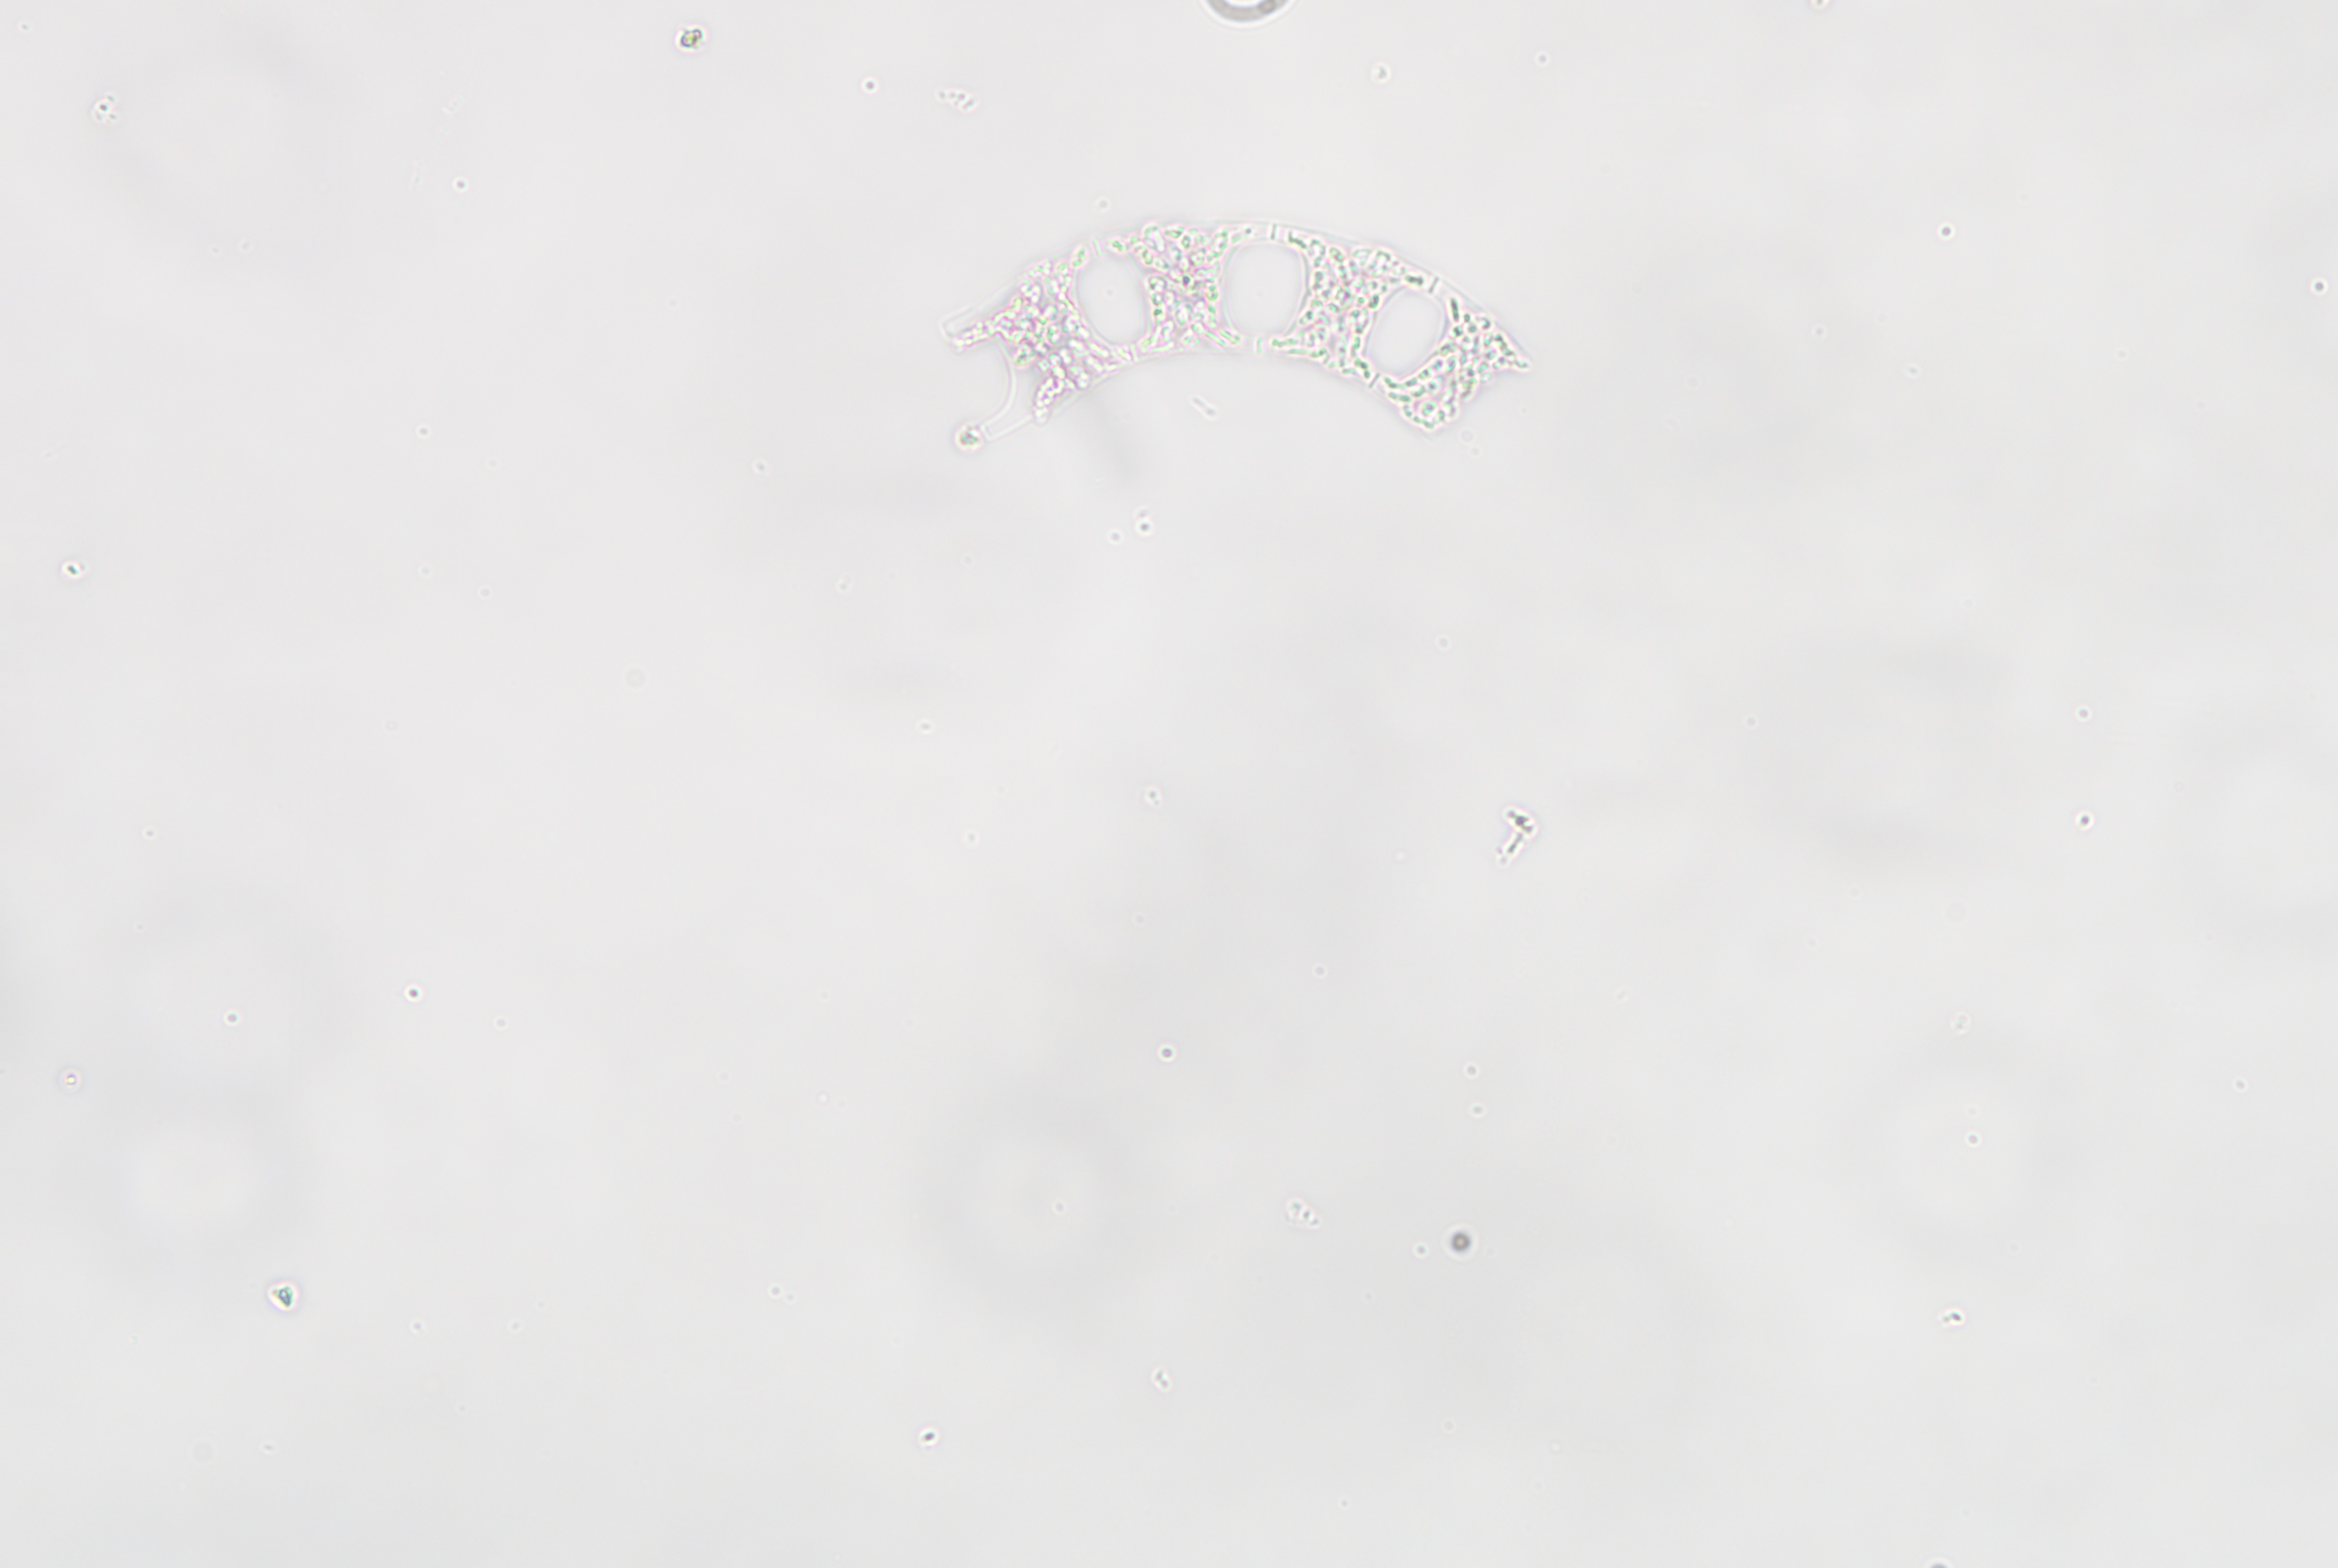eucampia: (949, 220, 1526, 436)
